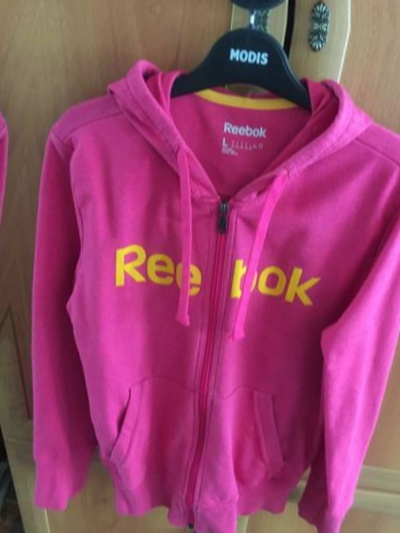Hoodie: (0, 25, 400, 533), (0, 0, 32, 520), (52, 0, 400, 12), (393, 68, 400, 533)
